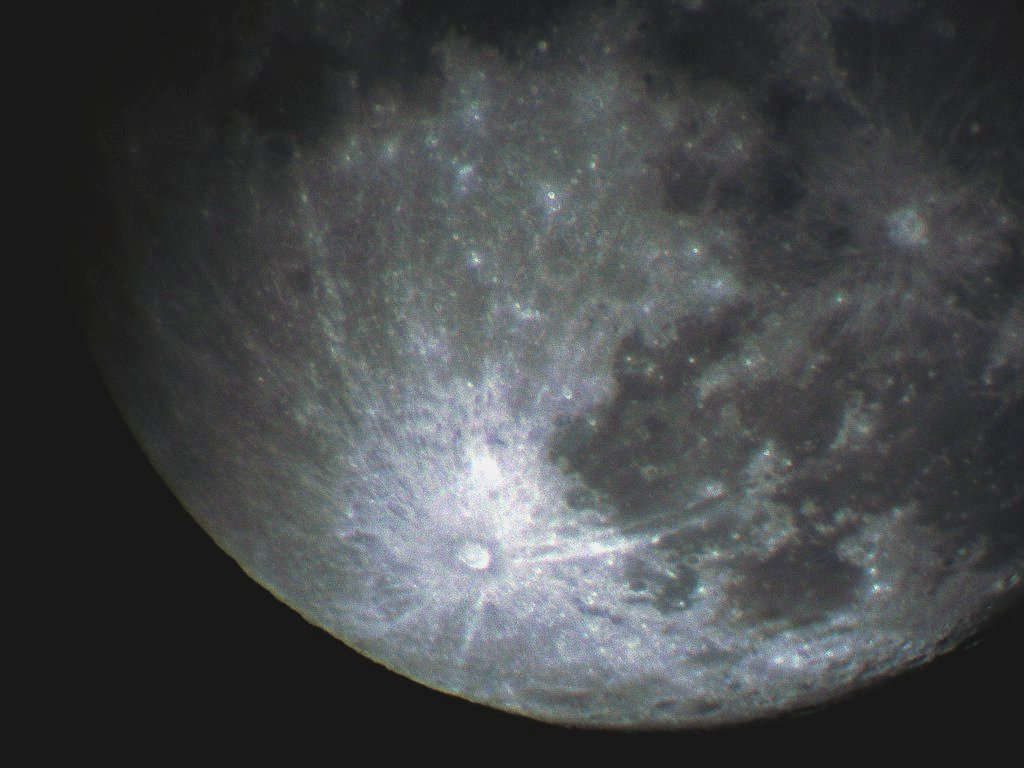crater: (404, 486, 509, 599), (863, 190, 948, 274), (556, 472, 627, 533), (673, 535, 706, 585), (611, 571, 652, 607), (534, 177, 568, 208)
